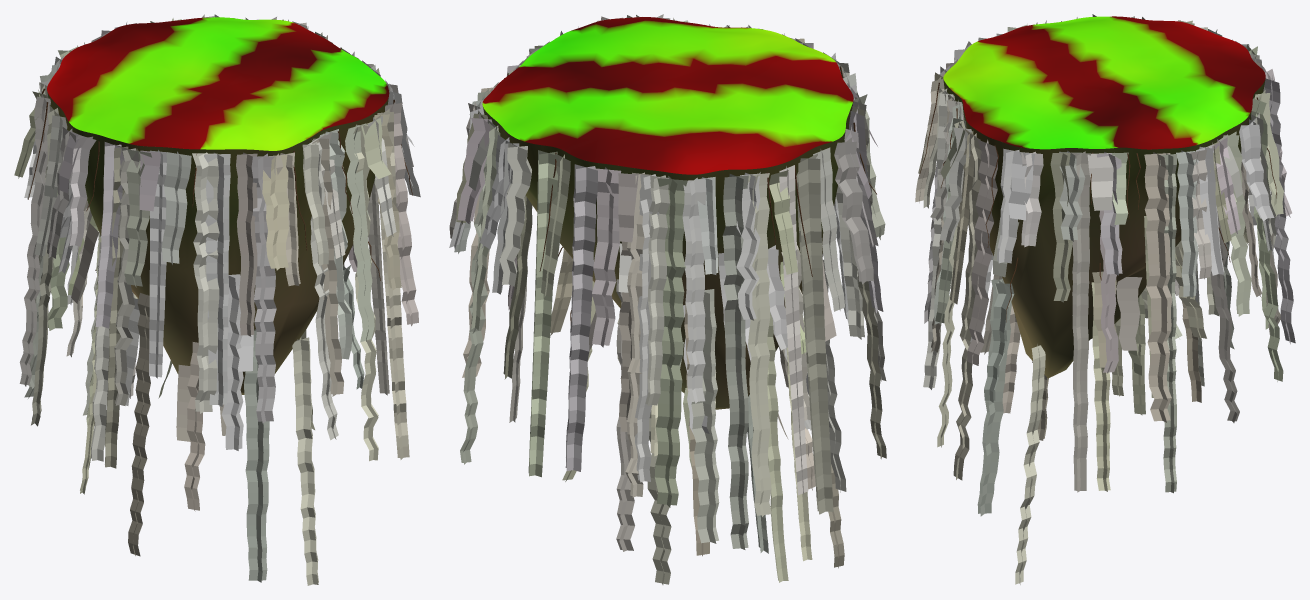
File: SM_H14_Floater04.fbx
3 renders of one model, left to right at view 1: azimuth 30°, elevation 25°; view 2: azimuth 150°, elevation 25°; view 3: azimuth 270°, elevation 25°, orthographic. The views are drawn at different scales.
Visible parts, largest first — view 1: SM_H14_Floater04_Ivy, SM_H14_Floater04; view 2: SM_H14_Floater04_Ivy, SM_H14_Floater04; view 3: SM_H14_Floater04_Ivy, SM_H14_Floater04.
Part boxes in pixels (x1,y1,x2,y2): SM_H14_Floater04_Ivy: (14, 14, 420, 585); SM_H14_Floater04: (47, 17, 389, 394); SM_H14_Floater04_Ivy: (449, 14, 886, 584); SM_H14_Floater04: (482, 17, 853, 409); SM_H14_Floater04_Ivy: (915, 14, 1295, 584); SM_H14_Floater04: (943, 16, 1265, 378).
Bounding box in the file's own units: 29.88 × 42.02 × 29.96.
